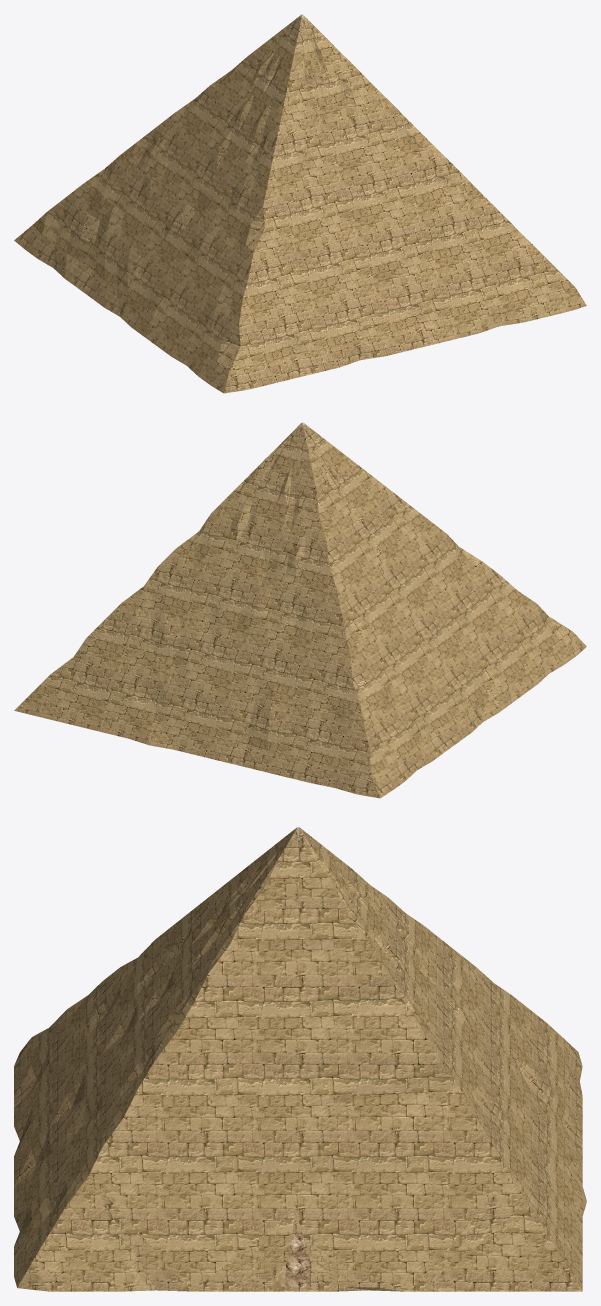
File: piramide-OK.fbx
3 views of the same model, one above another, from view 1: azimuth 30°, elevation 25°; view 2: azimuth 150°, elevation 25°; view 3: azimuth 270°, elevation 25° (orthographic). The views are drawn at different scales.
Parts seen in each view (by area): view 1: Cube; view 2: Cube; view 3: Cube.
Boxes of the visible parts, <box> form: Cube: <box>14,14,586,393</box>; Cube: <box>14,422,586,798</box>; Cube: <box>14,827,586,1291</box>.
Bounding box in the file's own units: 4462 × 2975 × 4496.
Materials: 8 (8 with a texture image).
